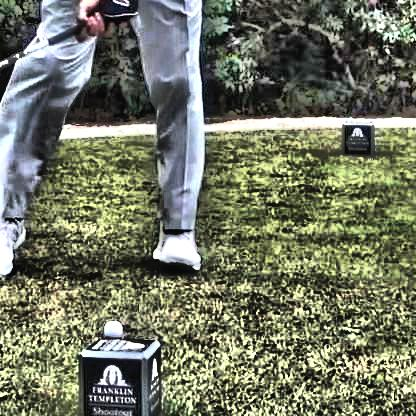golfball: (98, 315, 123, 337)
